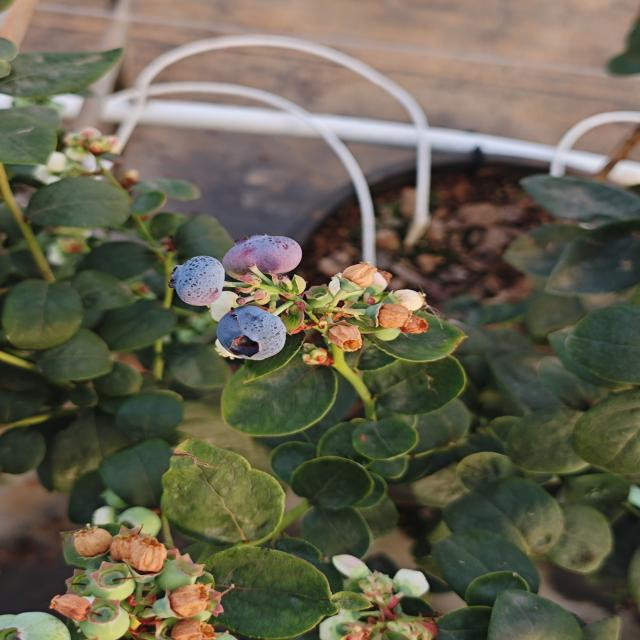ripe: (212, 304, 289, 362), (220, 233, 304, 282), (167, 254, 227, 308)
